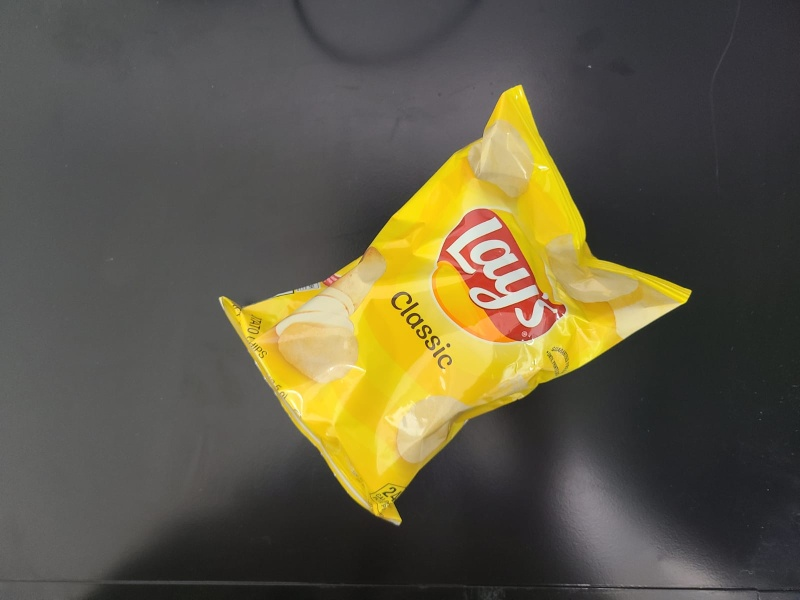lays: (217, 86, 695, 529)
